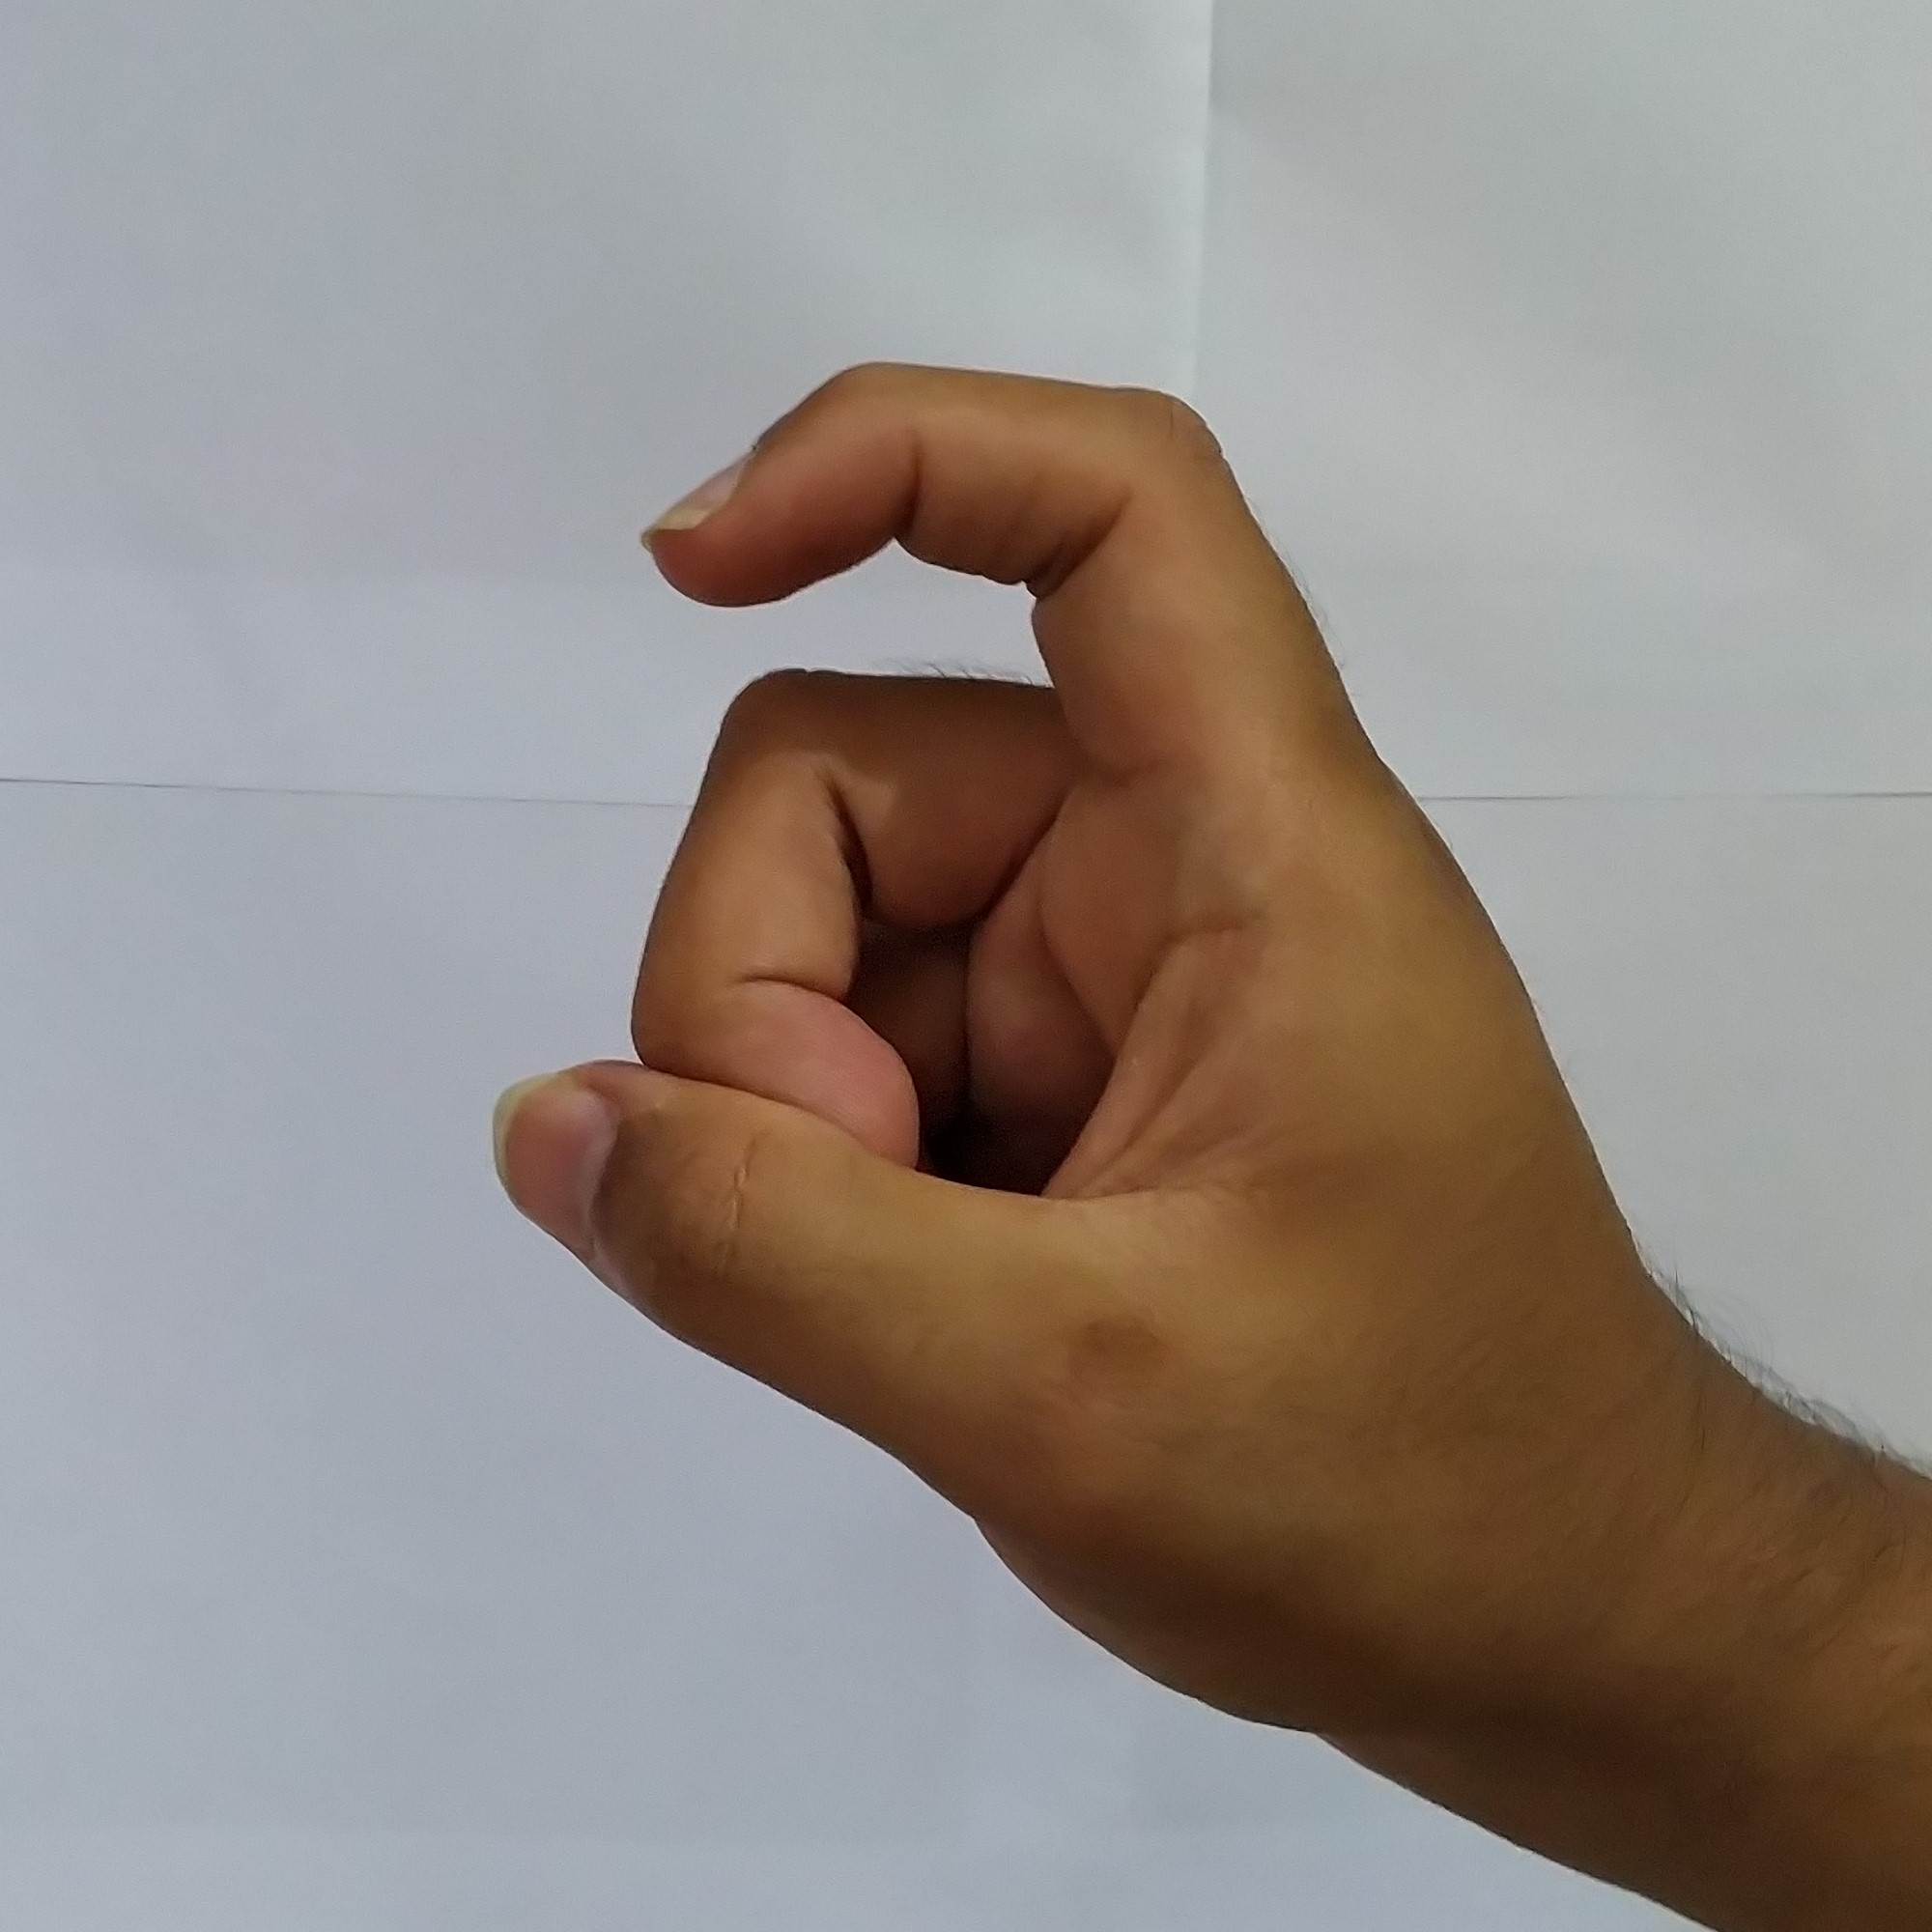X: (453, 327, 1695, 1736)
